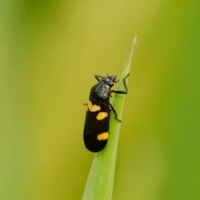insect: (83, 73, 128, 151), (83, 74, 128, 151)
